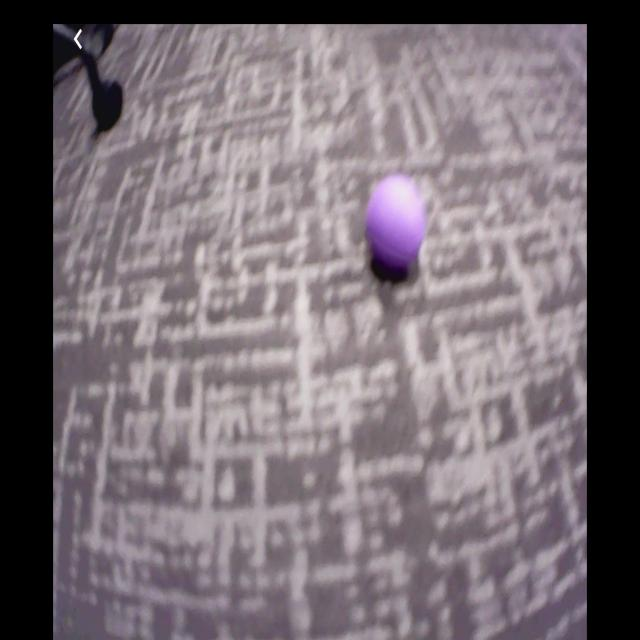ball: (365, 174, 427, 266)
